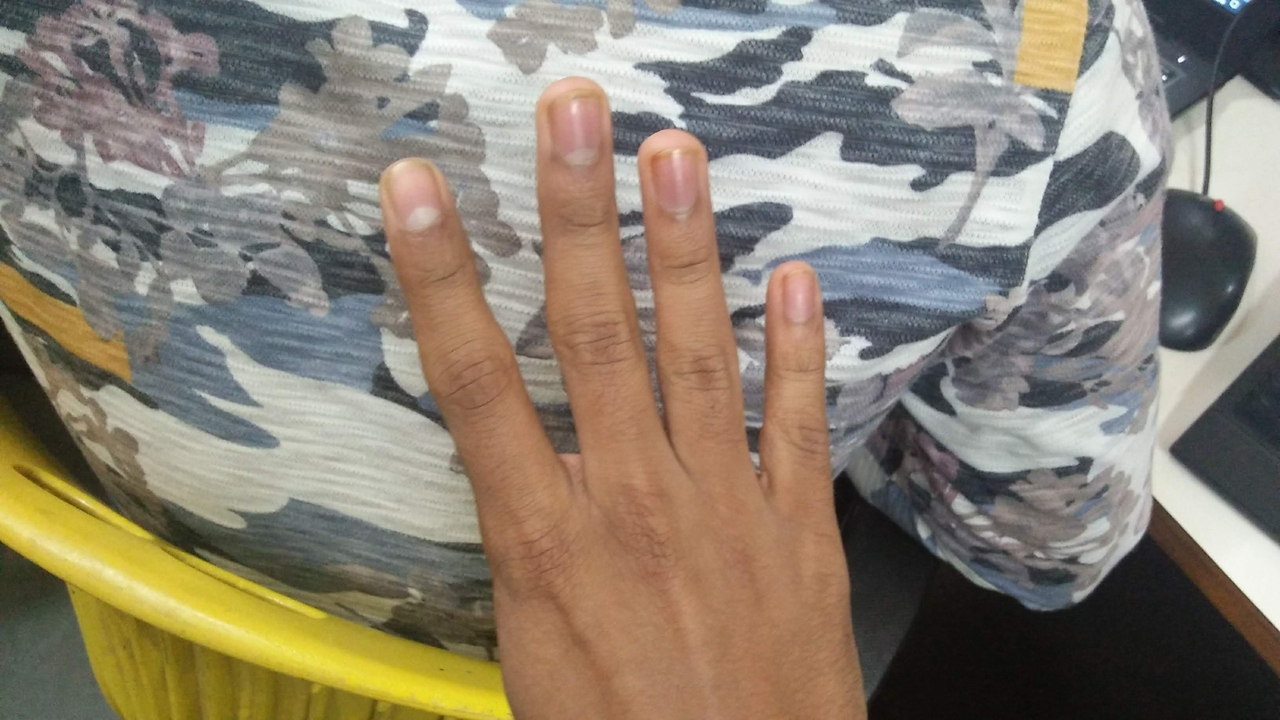fingertip: (632, 118, 719, 233), (532, 74, 617, 186), (366, 150, 453, 242), (766, 256, 828, 326)
